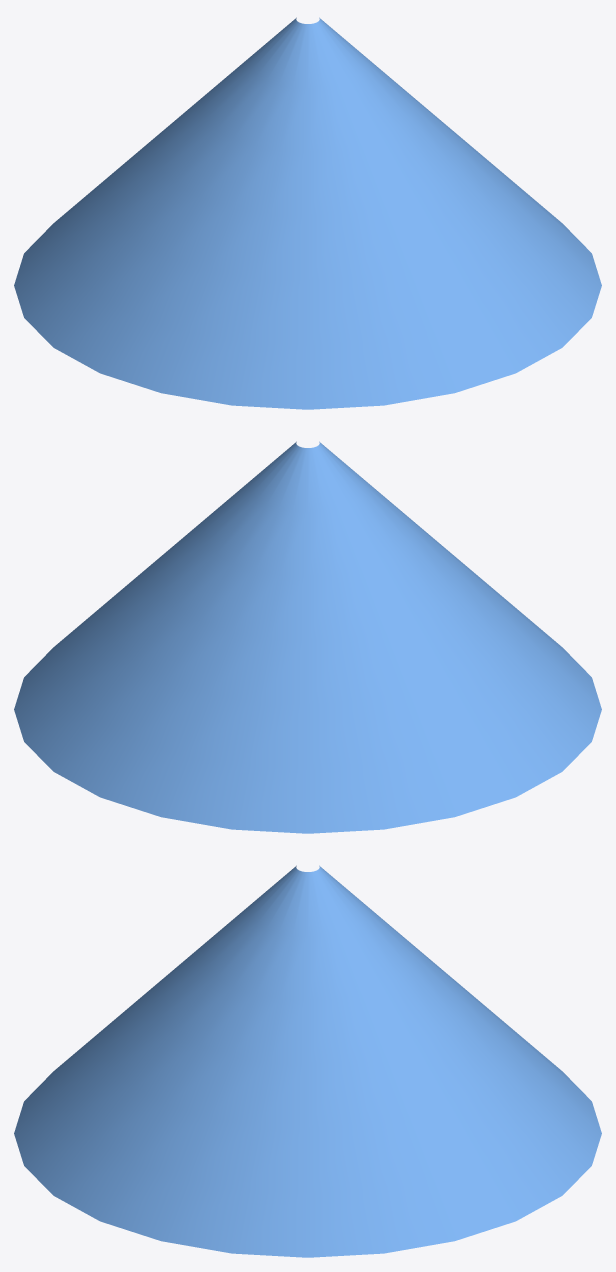
Rendered from Light_Beam.glb.
3 renders of one model, top to bottom at view 1: azimuth 30°, elevation 25°; view 2: azimuth 150°, elevation 25°; view 3: azimuth 270°, elevation 25°, orthographic.
Visible parts, largest first — view 1: Light_Beam; view 2: Light_Beam; view 3: Light_Beam.
Part boxes in pixels (x1,y1,x2,y2): Light_Beam: [14, 17, 601, 409]; Light_Beam: [14, 441, 601, 833]; Light_Beam: [14, 865, 601, 1257].
Size of the model in its own units: 2 by 1 by 2.
